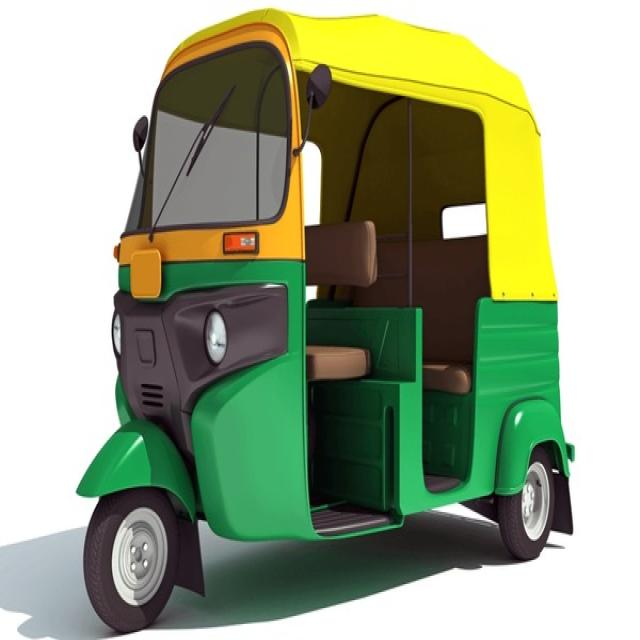autorickshaw: (79, 9, 575, 631)
